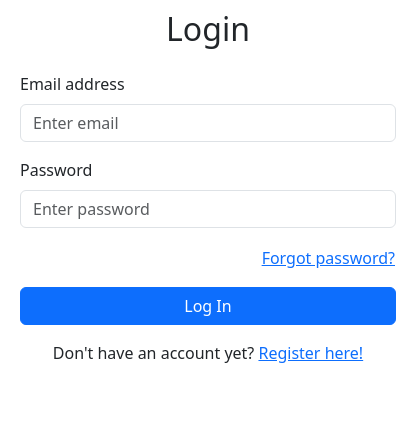
Login Page › shows generic error on other failures
The width and height of the screenshot is (417, 438).
Type "fail@net.com" into the field with placeholder "Enter email" at coordinates (208, 123), box [20,104,396,142]
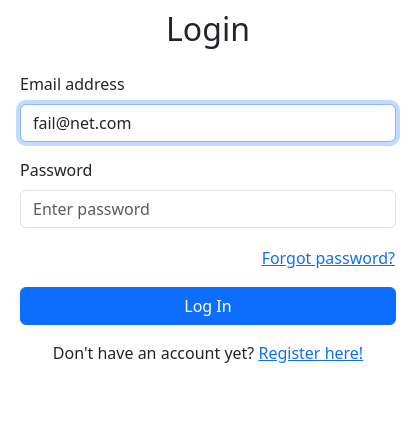
Type "somepass" into the password field with placeholder "Enter password" at coordinates (208, 209), box [20,190,396,228]
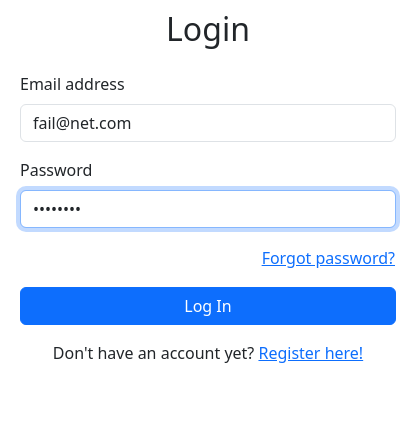
Click the button "Log In" at coordinates (208, 306), box [20,287,396,325]
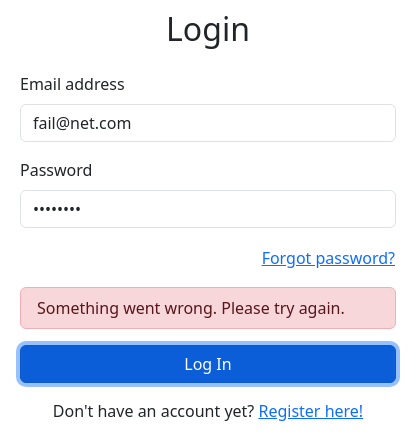
Result: the text "Something went wrong. Please try again." is shown at [20,287,396,329]
